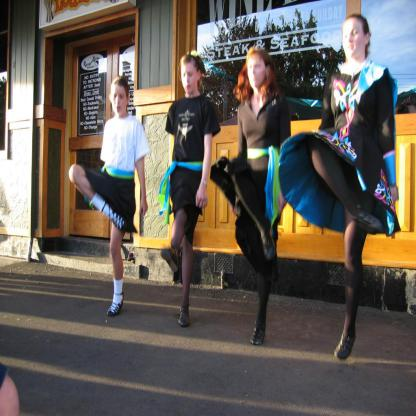face: (344, 21, 366, 57), (248, 55, 267, 87), (181, 63, 198, 93), (112, 86, 128, 114)
